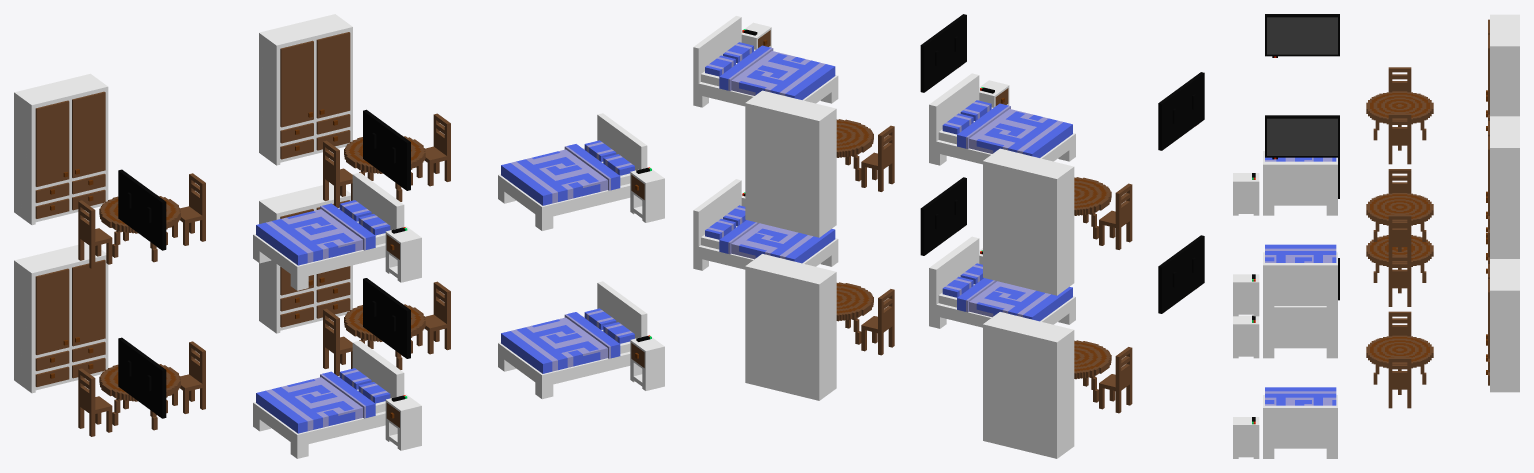
Rendered from motel-3.obj.
The picture shows the model from 3 angles, left to right: view 1: azimuth 30°, elevation 25°; view 2: azimuth 150°, elevation 25°; view 3: azimuth 270°, elevation 25°; orthographic projection. The views are drawn at different scales.
Bounding box in the file's own units: 25.4 × 14.4 × 15.3.
1 material, 1 textured.
